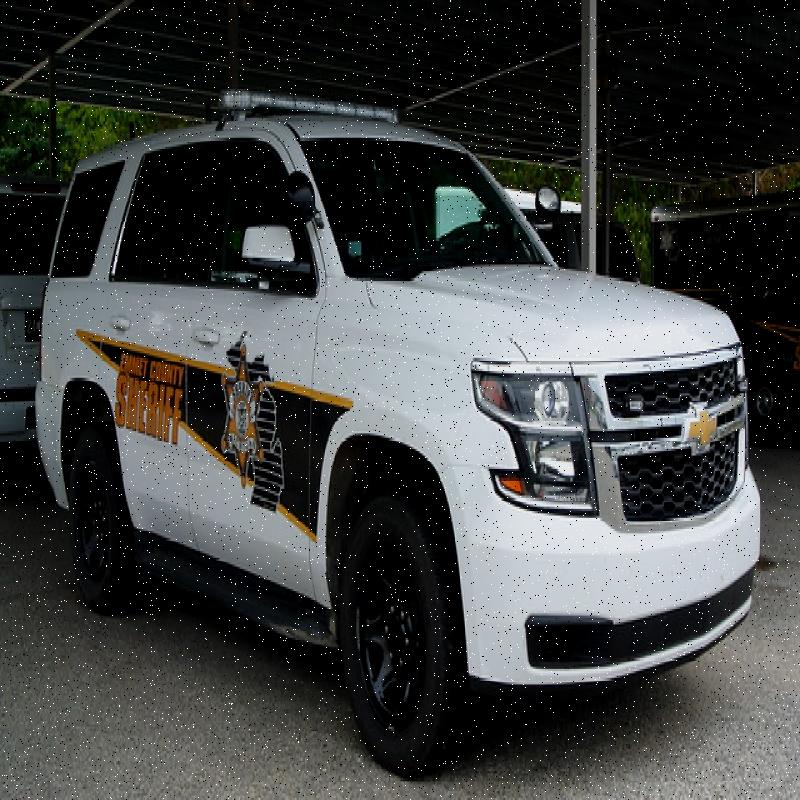AmbulanceSiren: (200, 63, 421, 131)
